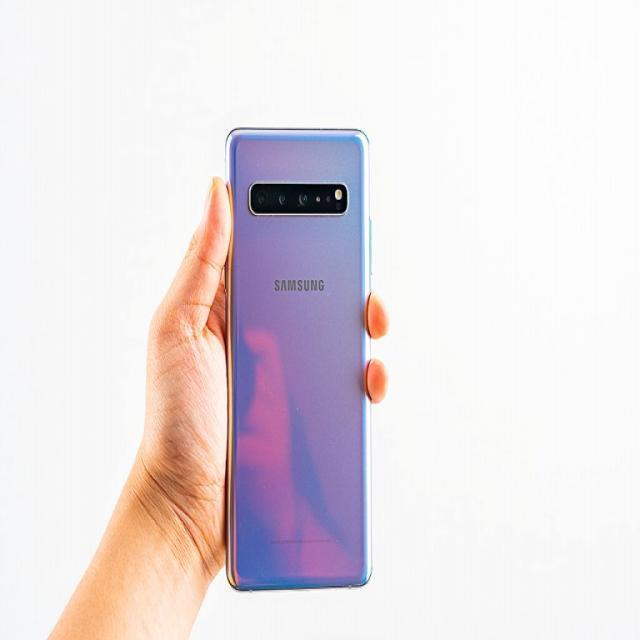phone: (228, 129, 370, 590)
